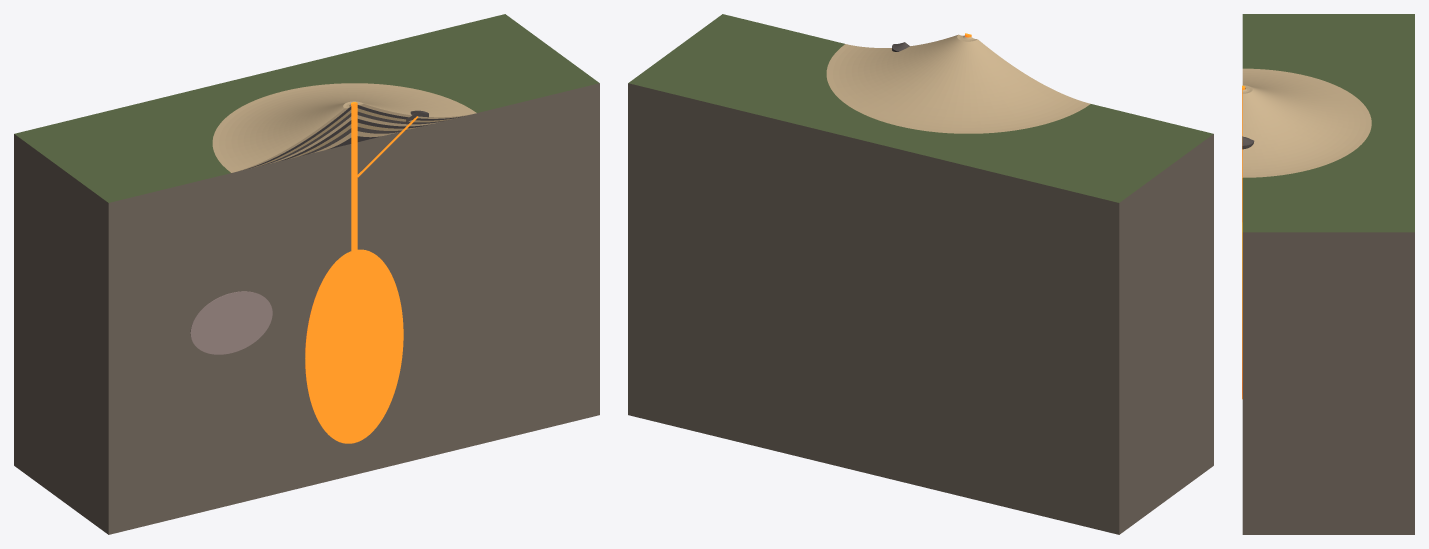
The model's file is stratovolcano_cutaway.draco.glb.
The picture shows the model from 3 angles, left to right: view 1: azimuth 30°, elevation 25°; view 2: azimuth 150°, elevation 25°; view 3: azimuth 270°, elevation 25°; orthographic projection. The views are drawn at different scales.
Visible parts, largest first — view 1: Bedrock, Chamber, Layer_10_ash, Pluton, Conduit; view 2: Bedrock, Layer_10_ash; view 3: Bedrock, Layer_10_ash.
Part boxes in pixels (x1,y1,x2,y2): Bedrock: [14, 14, 599, 534]; Chamber: [305, 249, 403, 443]; Layer_10_ash: [212, 83, 476, 172]; Pluton: [190, 291, 272, 354]; Conduit: [351, 102, 357, 251]; Bedrock: [628, 14, 1213, 534]; Layer_10_ash: [826, 34, 1090, 133]; Bedrock: [1242, 14, 1414, 534]; Layer_10_ash: [1242, 68, 1371, 177].
Bounding box in the file's own units: 24 × 17.36 × 8.02.
